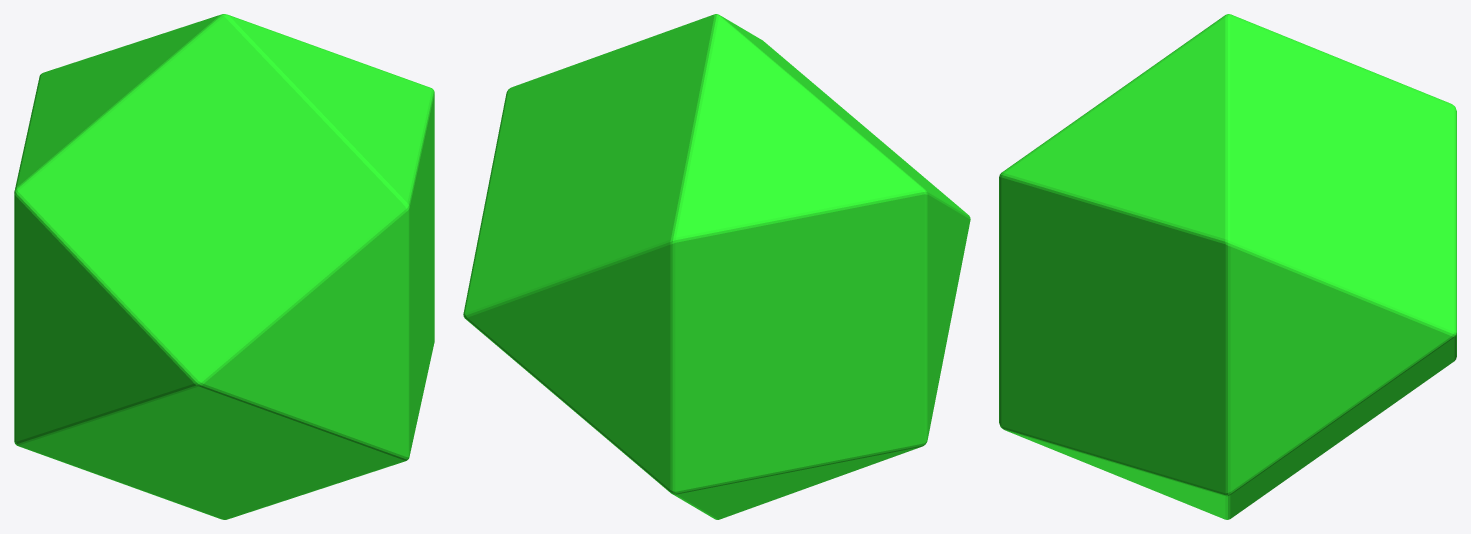
File: Cuboctahedron.obj
3 renders of one model, left to right at view 1: azimuth 30°, elevation 25°; view 2: azimuth 150°, elevation 25°; view 3: azimuth 270°, elevation 25°, orthographic.
Visible parts, largest first — view 1: Cuboctahedron; view 2: Cuboctahedron; view 3: Cuboctahedron.
Boxes of the visible parts, x1=… form: Cuboctahedron: x1=14, y1=14, x2=434, y2=519; Cuboctahedron: x1=463, y1=14, x2=970, y2=519; Cuboctahedron: x1=999, y1=14, x2=1456, y2=519.
Size of the model in its own units: 0.8639 by 0.9941 by 0.817.
